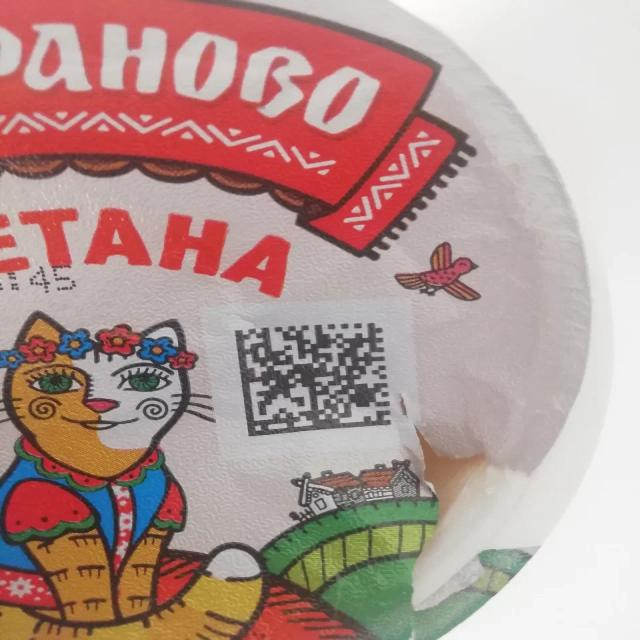datamatrix: (233, 319, 396, 441)
